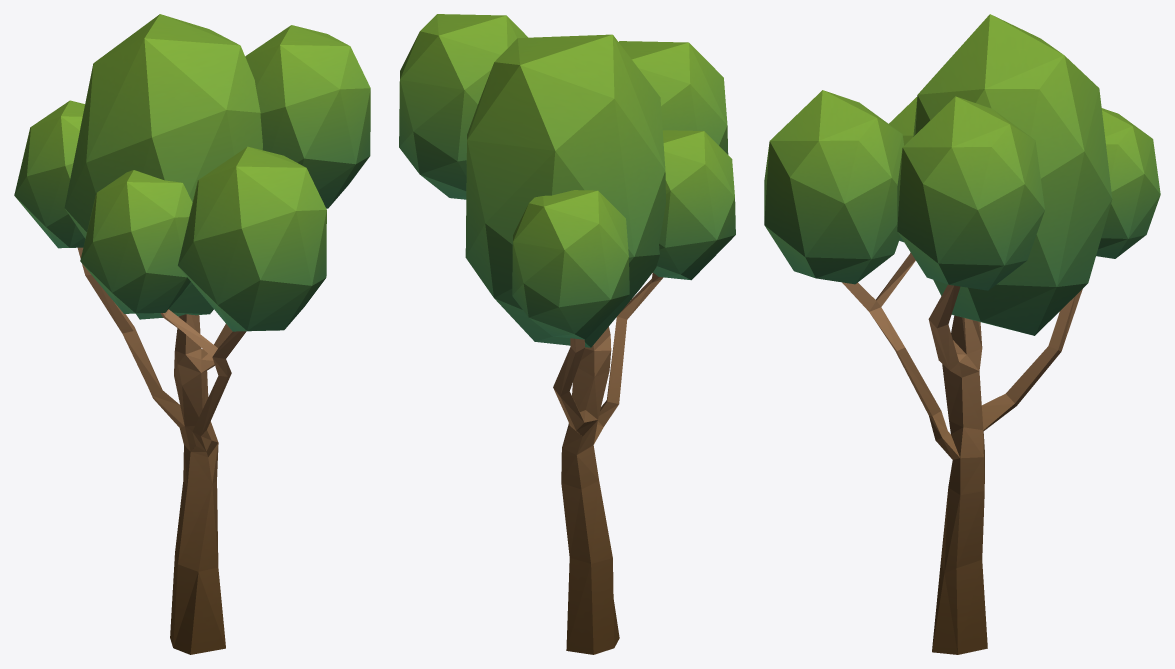
File: ZLP_Plant_I_10.FBX
3 views of the same model, side by side, from view 1: azimuth 30°, elevation 25°; view 2: azimuth 150°, elevation 25°; view 3: azimuth 270°, elevation 25° (orthographic). The views are drawn at different scales.
Visible parts, largest first — view 1: ZLP_Plant_I_10; view 2: ZLP_Plant_I_10; view 3: ZLP_Plant_I_10.
Part boxes in pixels (x1=…): ZLP_Plant_I_10: x1=14, y1=14, x2=370, y2=654; ZLP_Plant_I_10: x1=399, y1=14, x2=735, y2=654; ZLP_Plant_I_10: x1=764, y1=14, x2=1160, y2=654.
Bounding box in the file's own units: 69.66 × 136 × 79.98.
